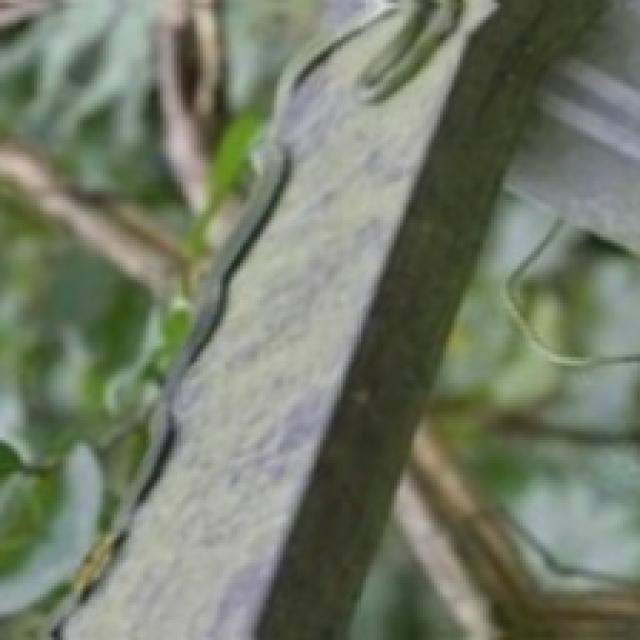paradise tree snake: (60, 0, 600, 637)
